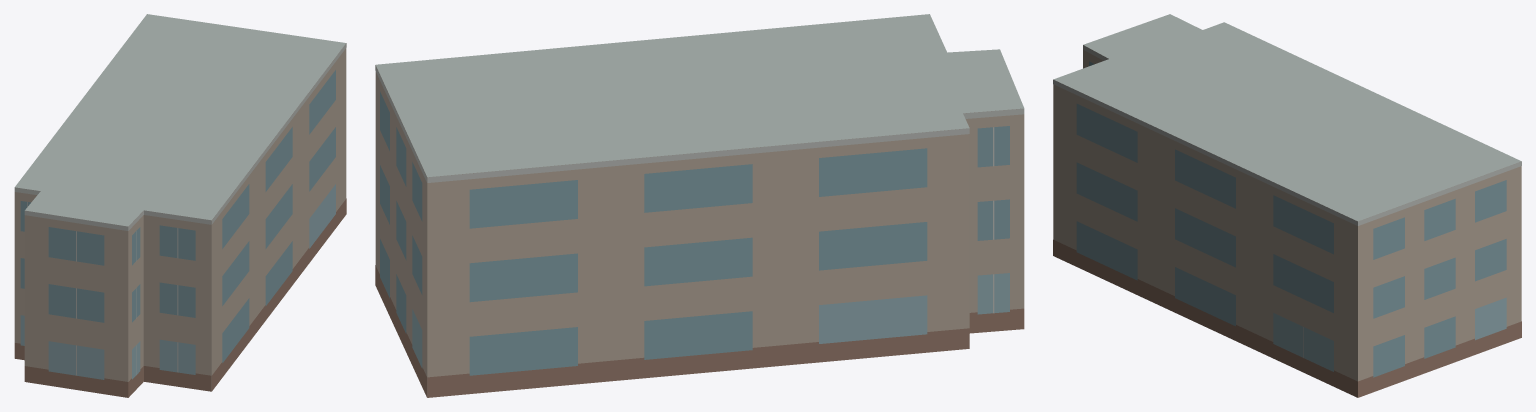
Rendered from survey-upis-32681867.glb.
3 views of the same model, side by side, from view 1: azimuth 30°, elevation 25°; view 2: azimuth 150°, elevation 25°; view 3: azimuth 270°, elevation 25° (orthographic). The views are drawn at different scales.
Visible parts, largest first — view 1: survey-upis-32681867.tmp; view 2: survey-upis-32681867.tmp; view 3: survey-upis-32681867.tmp.
Boxes of the visible parts, bbox=[...] form: survey-upis-32681867.tmp: bbox=[14, 14, 346, 397]; survey-upis-32681867.tmp: bbox=[375, 14, 1024, 397]; survey-upis-32681867.tmp: bbox=[1053, 14, 1521, 397].
Bounding box in the file's own units: 23.08 × 9.15 × 22.03.
